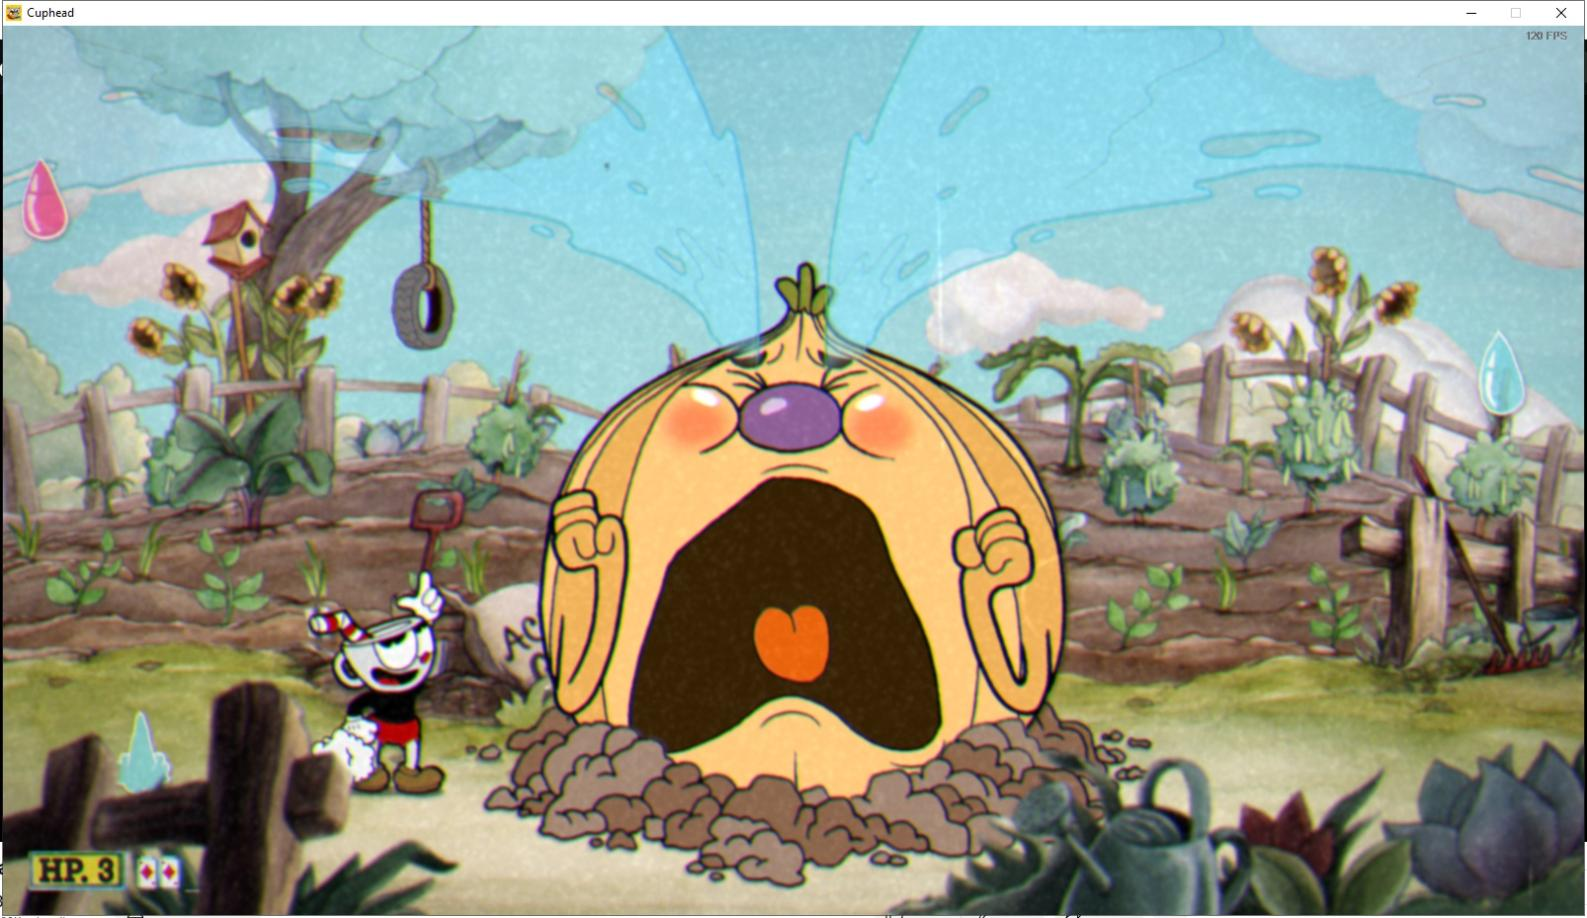hp3: (90, 852, 123, 890)
onion_boss: (524, 243, 1081, 827)
pink_rain: (17, 155, 73, 246)
player: (302, 562, 459, 807)
rain: (1471, 325, 1533, 426)
